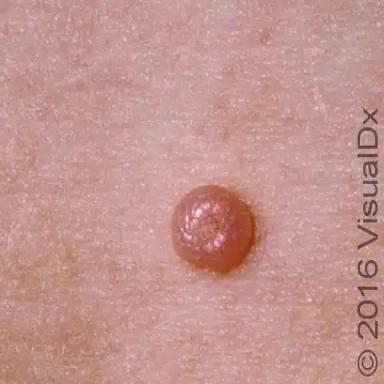Molluscum-Contagiosum: (173, 186, 255, 271)
